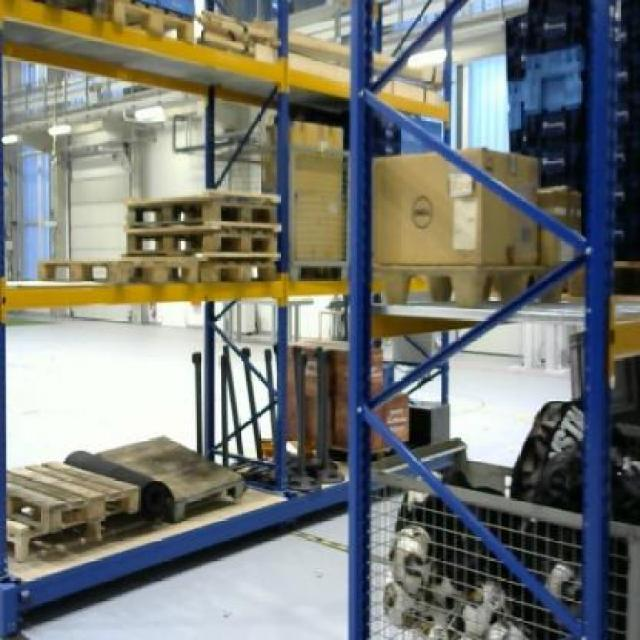box: (371, 147, 538, 266), (286, 119, 342, 264)
